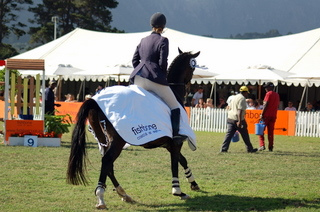person: (132, 15, 190, 146), (222, 86, 259, 153)
